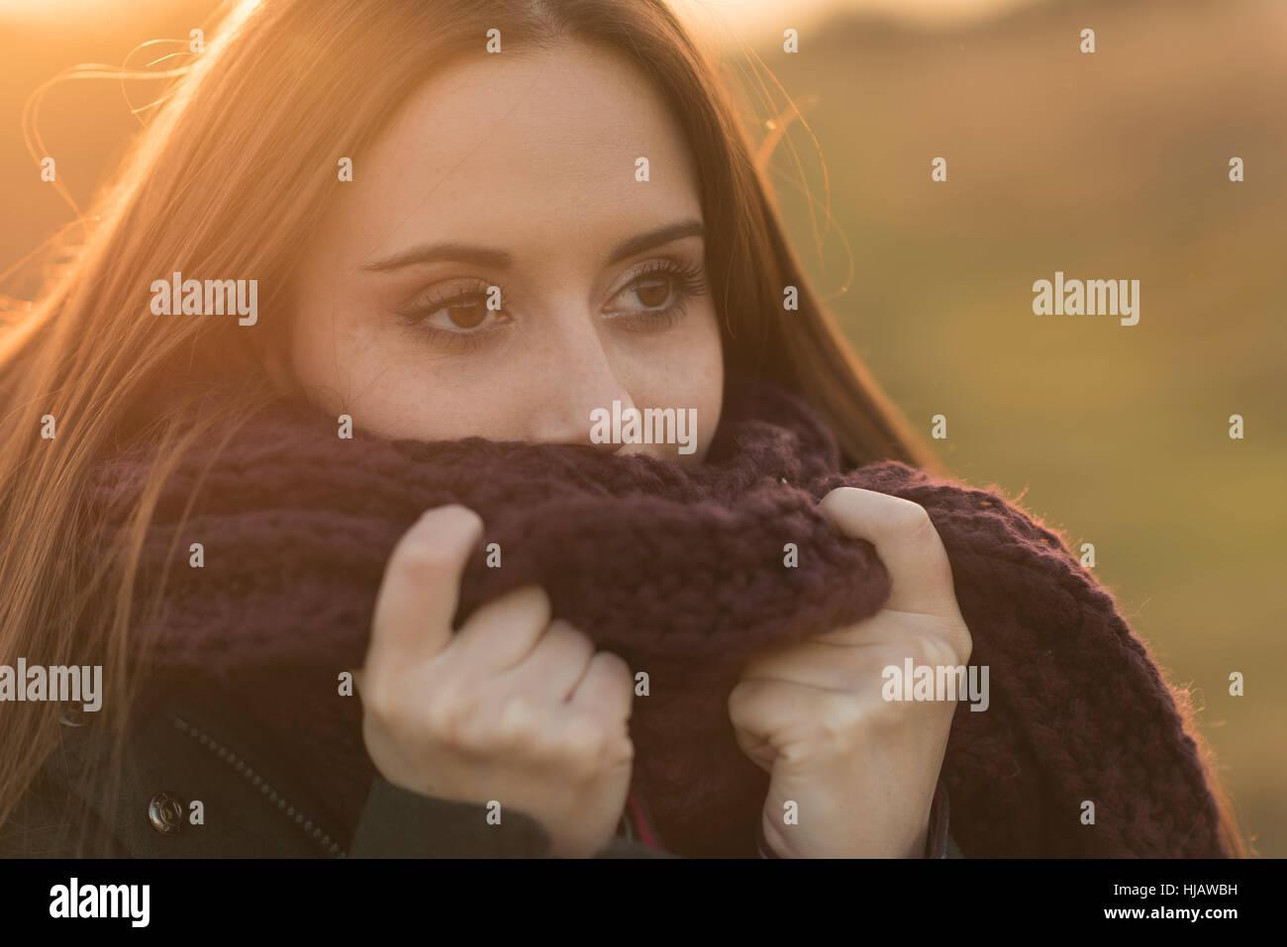scarf-kerchief: (59, 381, 1064, 688)
